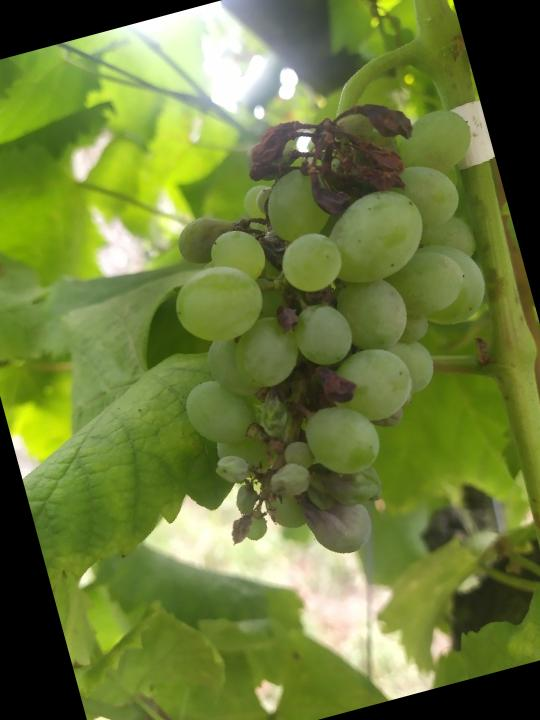grape: (115, 71, 540, 588)
